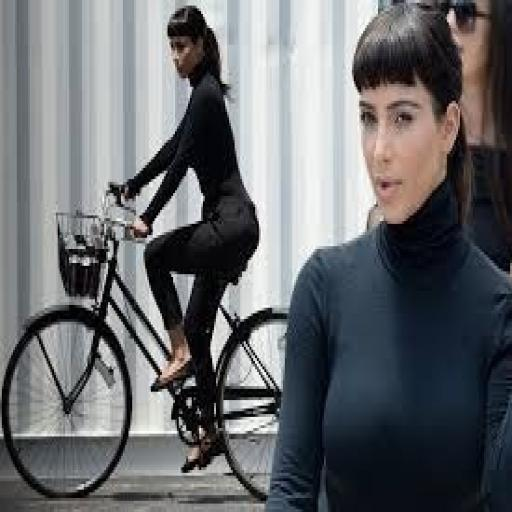cycling: (263, 3, 510, 509), (108, 2, 263, 476)
